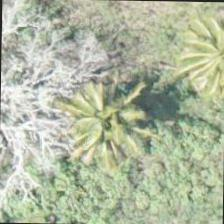Kelapa_Sawit: (57, 76, 149, 168), (170, 10, 223, 103)
